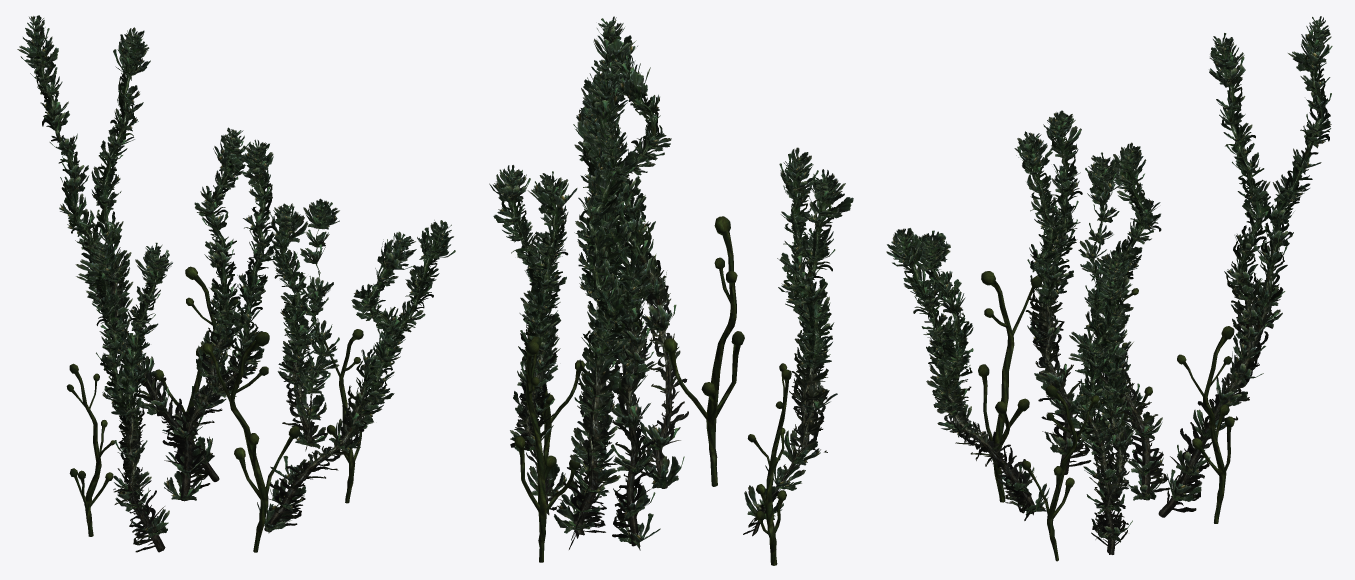
Rendered from planta.glb.
3 renders of one model, left to right at view 1: azimuth 30°, elevation 25°; view 2: azimuth 150°, elevation 25°; view 3: azimuth 270°, elevation 25°, orthographic. The views are drawn at different scales.
Parts seen in each view (by area): view 1: LOD0; view 2: LOD0; view 3: LOD0.
Part boxes in pixels (x1,y1,x2,y2): LOD0: (17, 15, 455, 552); LOD0: (489, 16, 853, 565); LOD0: (886, 16, 1332, 561).
Size of the model in its own units: 0.0144 by 0.0212 by 0.0185.
Materials: 3 (3 with a texture image).
